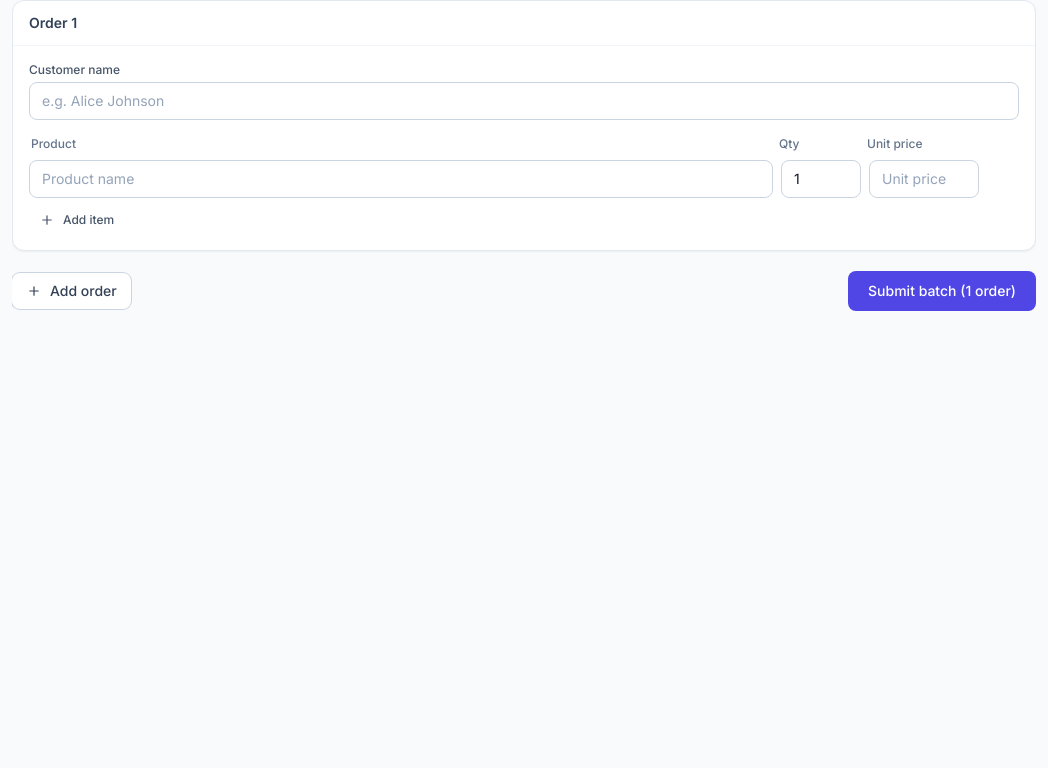
Test: CreateBatchForm › removes an order when "Remove order" is clicked
Click the button "Add order" at (71, 291), box [12,273,131,309]
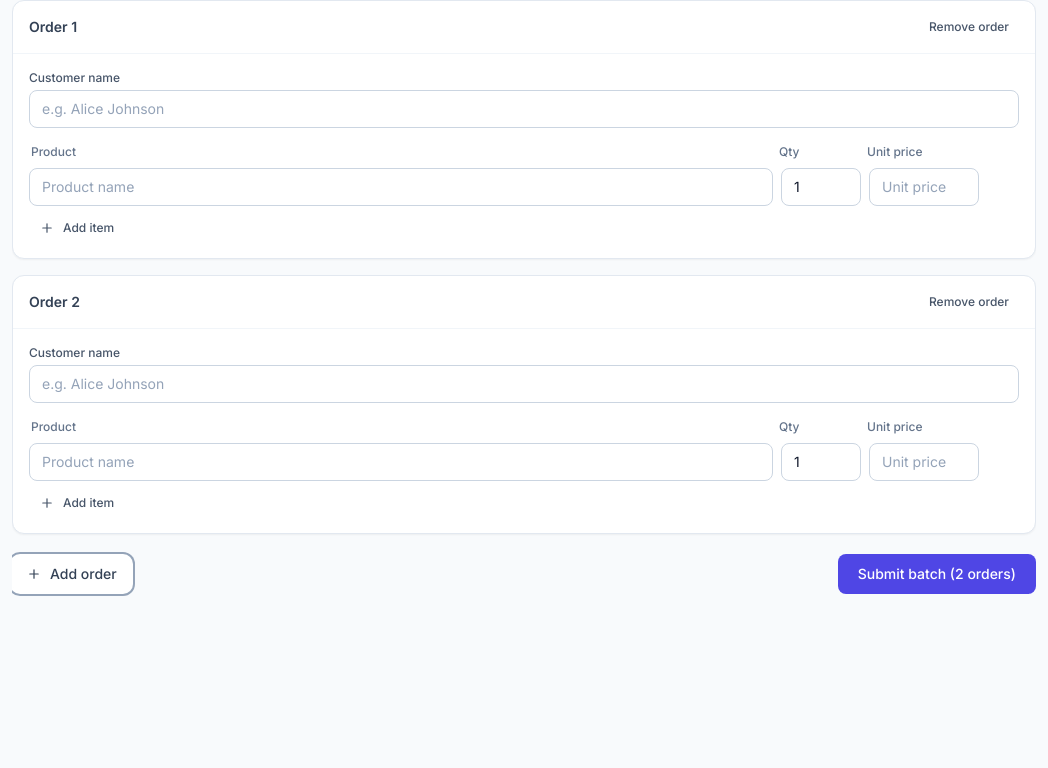
Check: the text "Order 2" is shown, box [29,292,80,312]
Click the 1st button "Remove order" at (969, 27), box [919,13,1019,41]
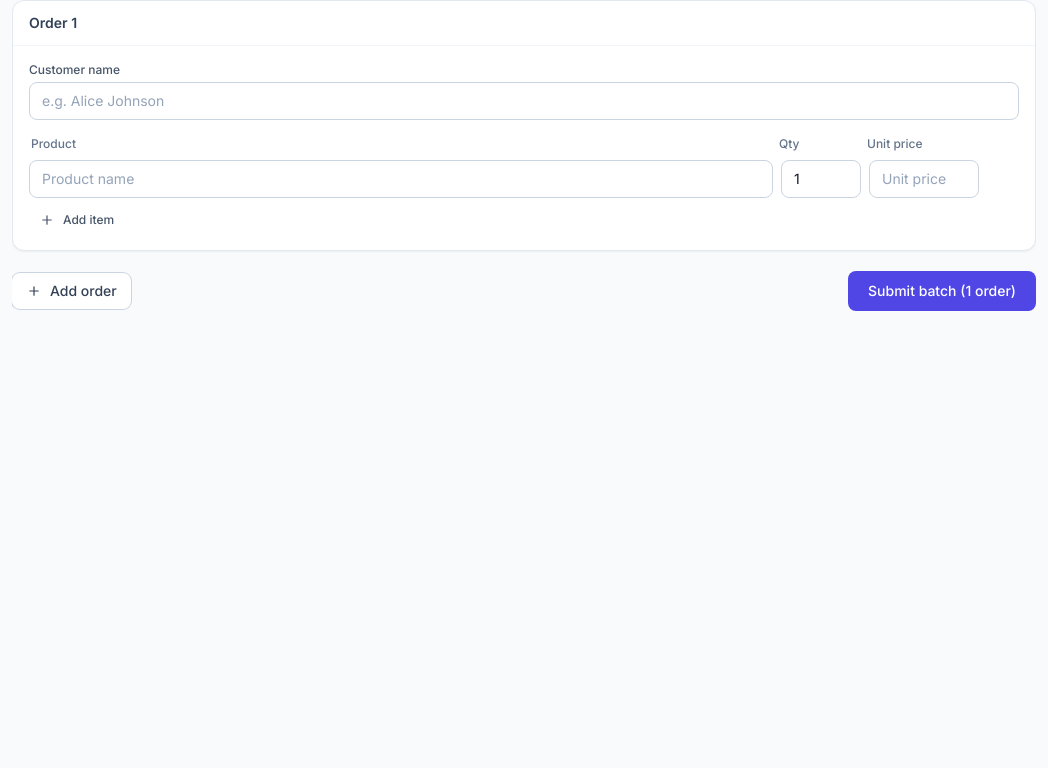
Check: the text "Order 2" is gone
